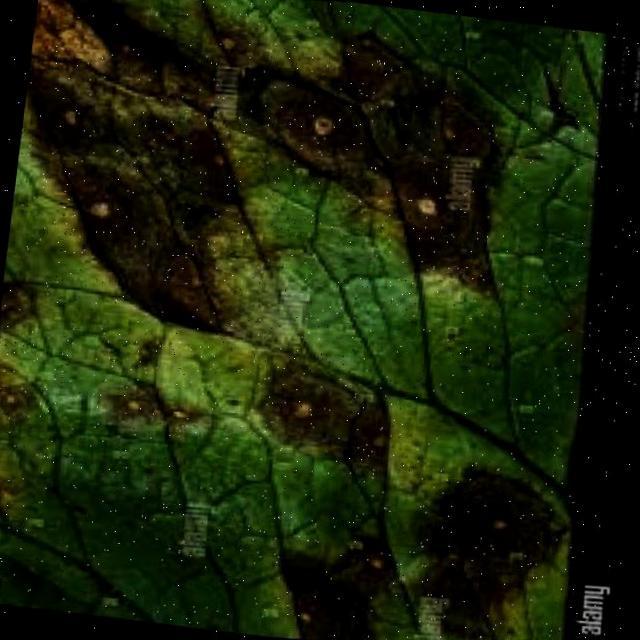Septoria_Blight: (0, 0, 631, 640)
